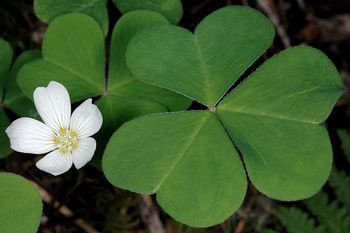oxalis: (28, 21, 350, 221)
